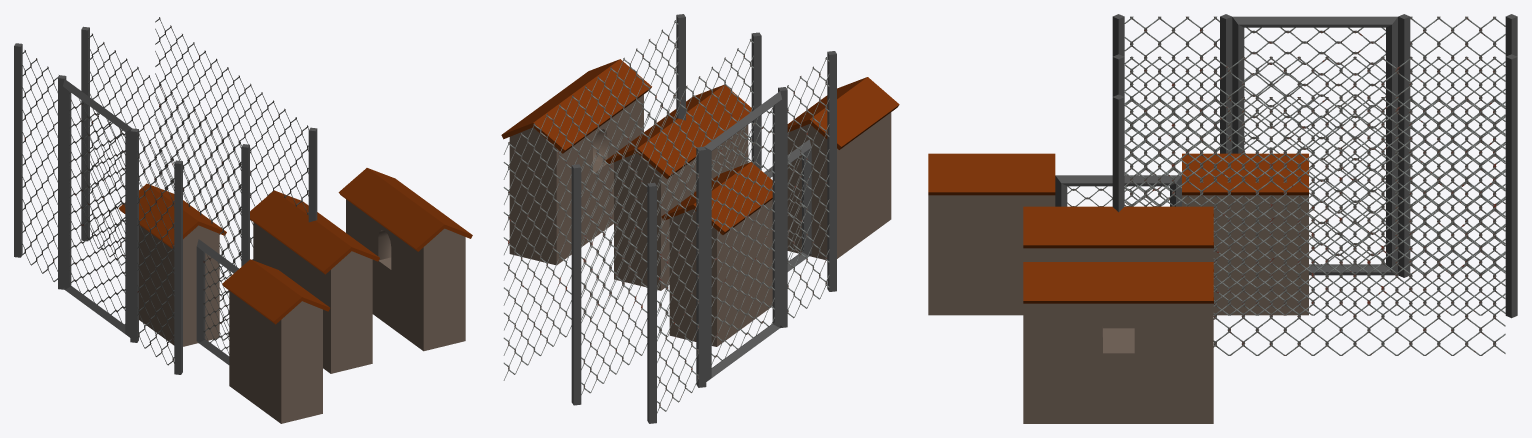
The model's file is Fences.fbx.
3 renders of one model, left to right at view 1: azimuth 30°, elevation 25°; view 2: azimuth 150°, elevation 25°; view 3: azimuth 270°, elevation 25°, orthographic. The views are drawn at different scales.
Visible parts, largest first — view 1: Cube.006, Cube.005, Cube.004, Cube.002, Cube.001, Cube.003, Cube, Cube.007; view 2: Cube.006, Cube.005, Cube.002, Cube.004, Cube.001, Cube.003, Cube, Cube.007; view 3: Cube.006, Cube.005, Cube.001, Cube, Cube.002, Cube.004, Cube.003, Cube.007.
Boxes of the visible parts, x1,y1,x2,y2 form: Cube.006: (118, 183, 330, 423); Cube.005: (338, 168, 472, 351); Cube.004: (250, 190, 379, 373); Cube.002: (14, 43, 182, 374); Cube.001: (81, 26, 249, 340); Cube.003: (62, 79, 131, 337); Cube: (155, 17, 317, 275); Cube.007: (196, 239, 238, 364); Cube.006: (661, 77, 899, 346); Cube.005: (501, 59, 651, 265); Cube.002: (647, 51, 836, 423); Cube.004: (605, 85, 751, 290); Cube.001: (571, 32, 761, 405); Cube.003: (704, 91, 782, 381); Cube: (503, 14, 685, 380); Cube.007: (764, 139, 811, 271); Cube.006: (928, 153, 1308, 315); Cube.005: (1023, 262, 1213, 423); Cube.001: (1112, 54, 1517, 318); Cube: (1112, 94, 1505, 355); Cube.002: (1112, 14, 1517, 277); Cube.004: (1023, 206, 1213, 328); Cube.003: (1232, 16, 1397, 275); Cube.007: (1055, 175, 1181, 206).
Bounding box in the file's own units: 387 × 300 × 619.
